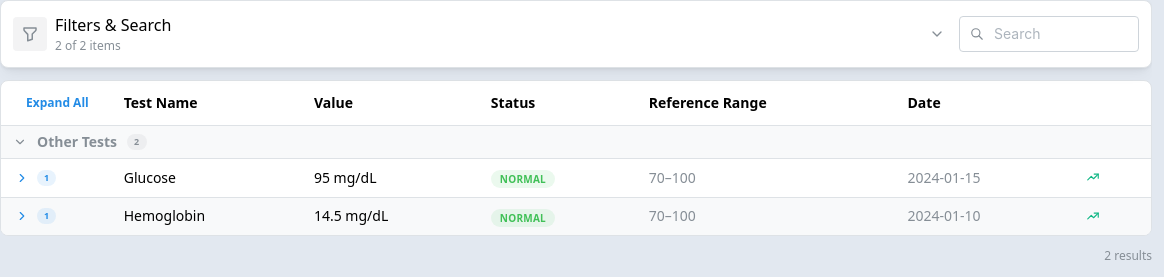
Test: LabResultsComponentTable › filters by search term
The image size is (1164, 277).
Check: the row with test id "summary-row-glucose" is shown, box [1,158,1151,197]
Check: the row with test id "summary-row-hemoglobin" is shown, box [1,197,1151,235]
Type "gluc" into the field with placeholder "Search" at (1049,34), box [959,16,1139,52]
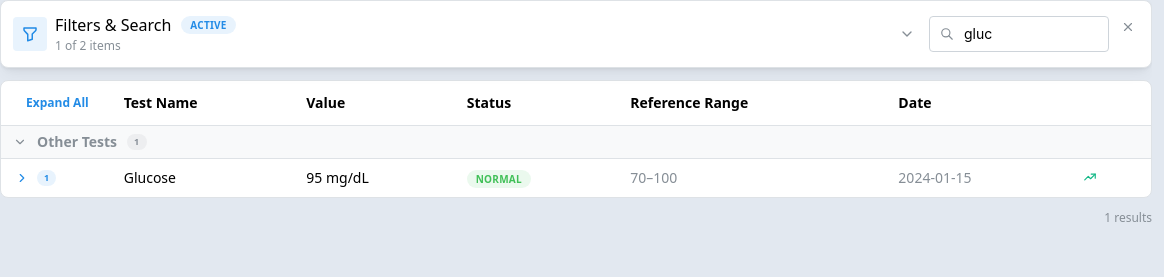
Check: the row with test id "summary-row-glucose" is shown, box [1,158,1151,197]
Check: the row with test id "summary-row-hemoglobin" is gone
